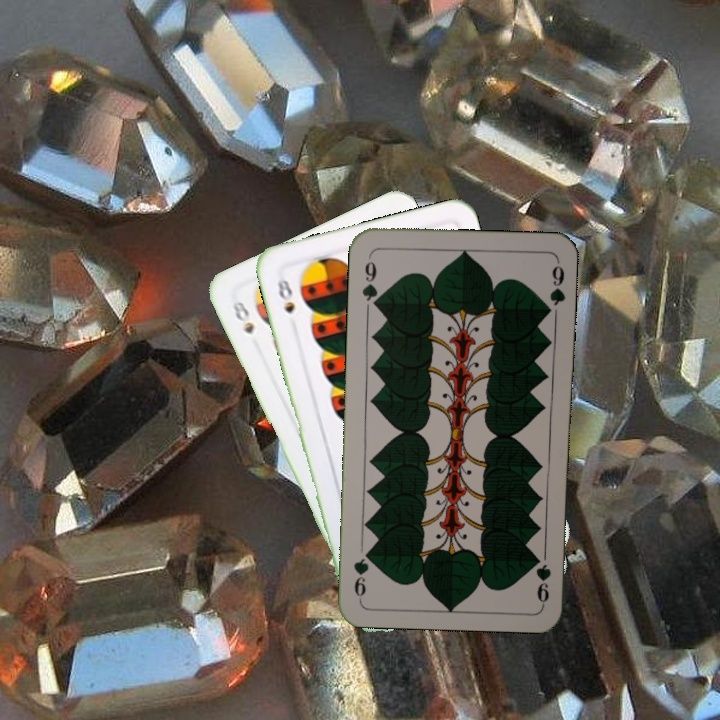G9: (358, 252, 381, 311), (532, 552, 554, 607)
S8: (227, 297, 257, 337), (273, 270, 298, 316)
